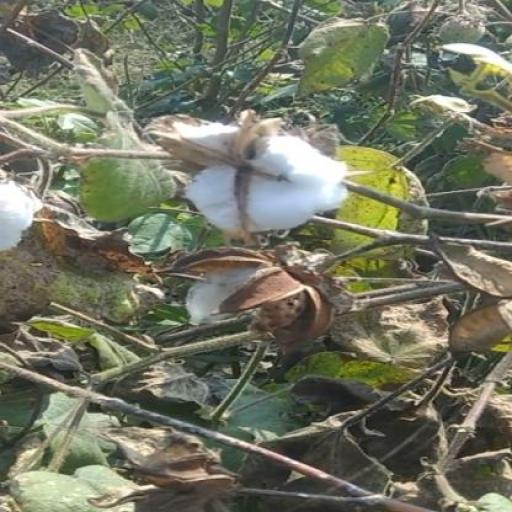cotton_ready: (148, 121, 392, 257)
